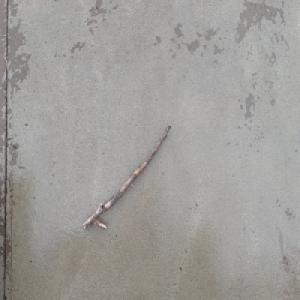Wood: (81, 123, 172, 230)
